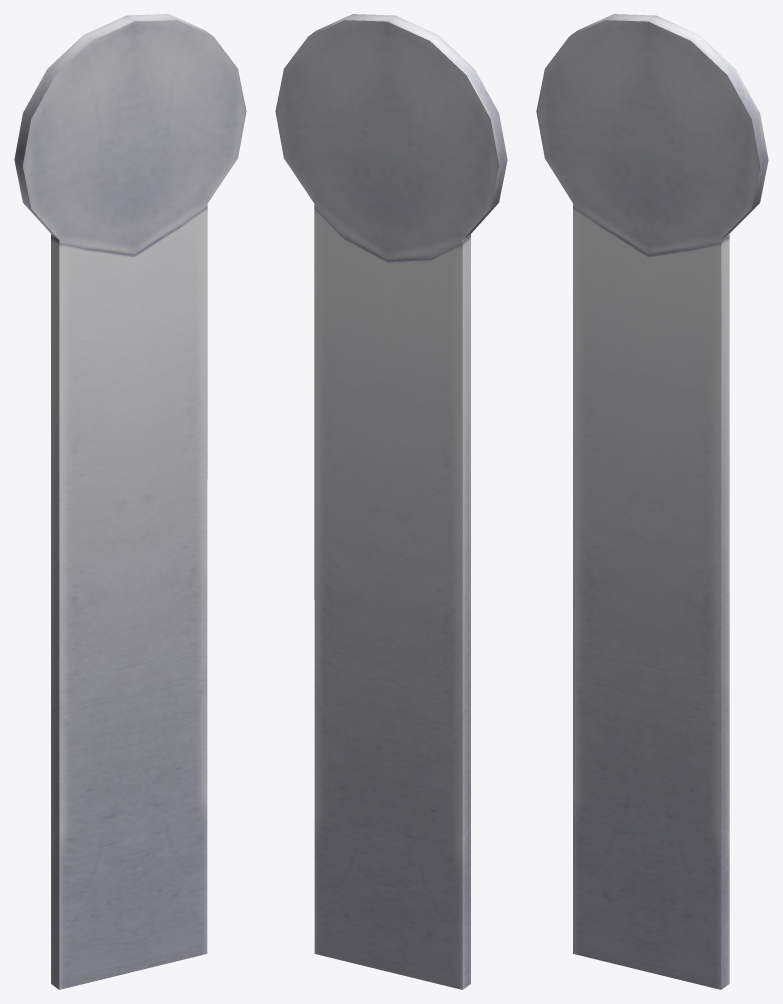
3 views of the same model, side by side, from view 1: azimuth 30°, elevation 25°; view 2: azimuth 150°, elevation 25°; view 3: azimuth 330°, elevation 25° (orthographic).
Parts seen in each view (by area): view 1: Object45; view 2: Object45; view 3: Object45.
Boxes of the visible parts, x1,y1,x2,y2 form: Object45: [14, 14, 246, 989]; Object45: [275, 14, 507, 989]; Object45: [536, 14, 768, 989].
Size of the model in its own units: 3.87 by 0.2484 by 15.7.
